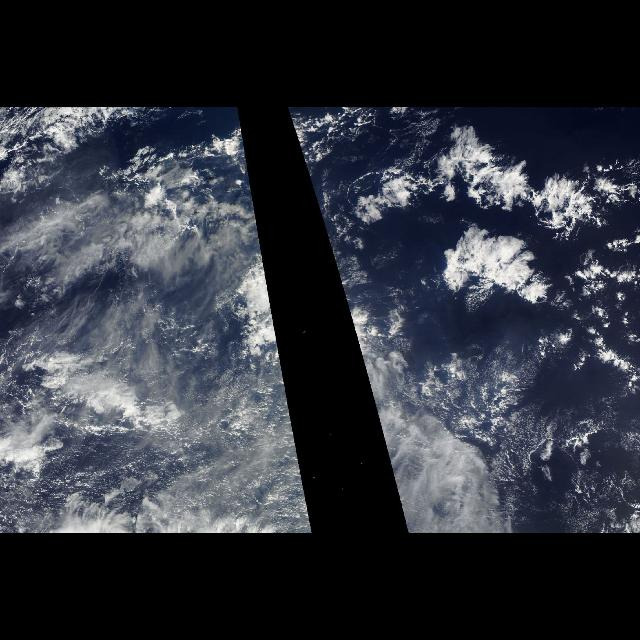Fish: (346, 130, 634, 262)
Flower: (388, 120, 624, 324)
Sugar: (425, 340, 635, 484), (5, 409, 253, 513)
